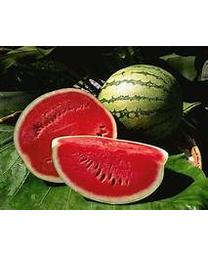watermelon: (14, 86, 168, 199), (101, 64, 184, 142)
